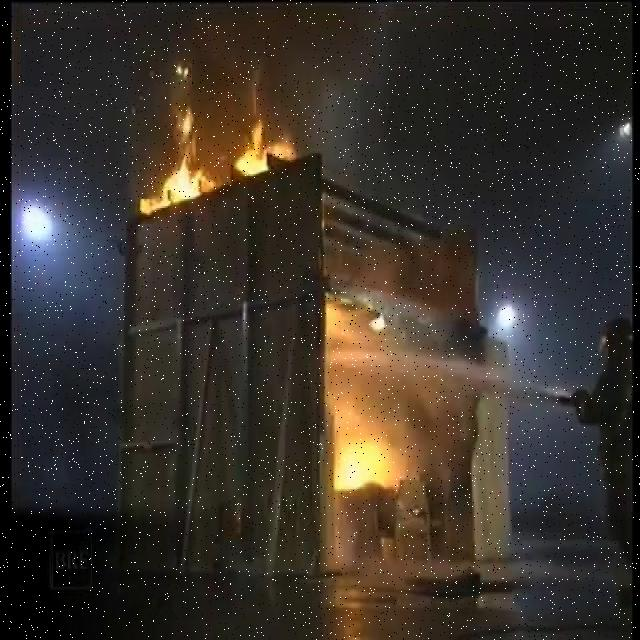fire: (143, 65, 304, 216), (332, 409, 424, 504)
